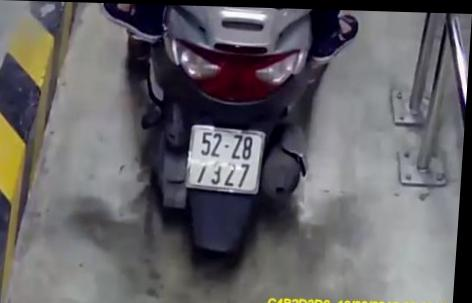License_Plate: (181, 120, 269, 200)
